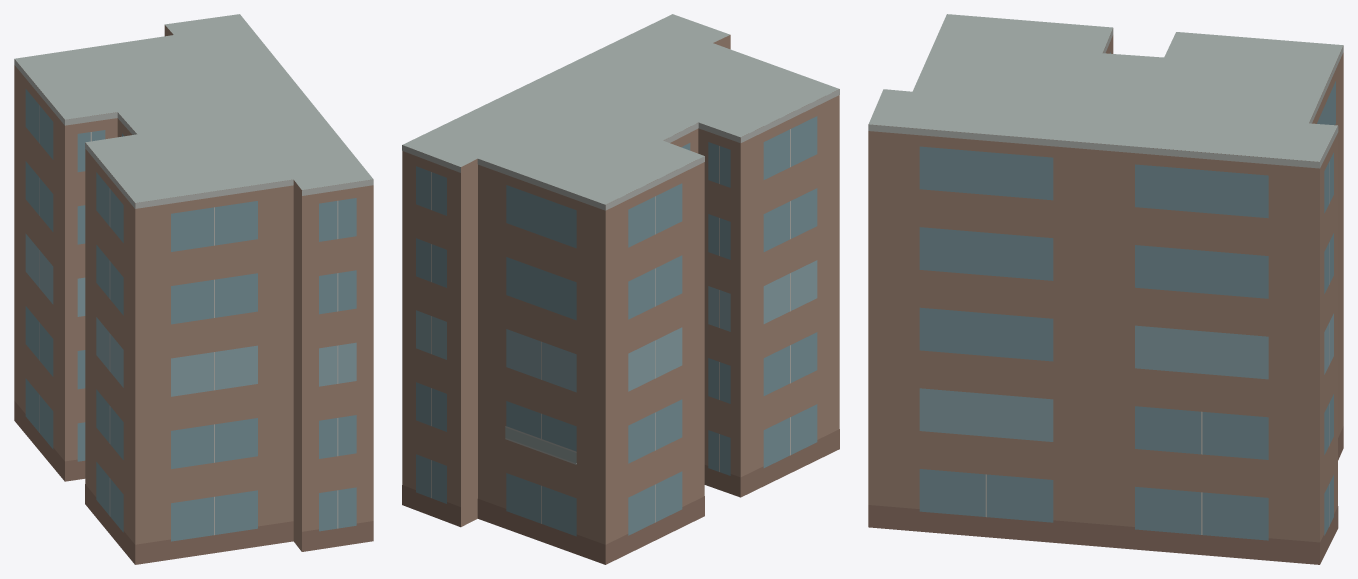
File: survey-upis-32646398.glb
The picture shows the model from 3 angles, left to right: view 1: azimuth 30°, elevation 25°; view 2: azimuth 150°, elevation 25°; view 3: azimuth 270°, elevation 25°; orthographic projection. The views are drawn at different scales.
Visible parts, largest first — view 1: survey-upis-32646398.tmp; view 2: survey-upis-32646398.tmp; view 3: survey-upis-32646398.tmp.
Boxes of the visible parts, bbox=[...] form: survey-upis-32646398.tmp: bbox=[14, 14, 373, 564]; survey-upis-32646398.tmp: bbox=[402, 14, 839, 564]; survey-upis-32646398.tmp: bbox=[868, 14, 1343, 564].
Size of the model in its own units: 11.74 by 14.9 by 15.93.
